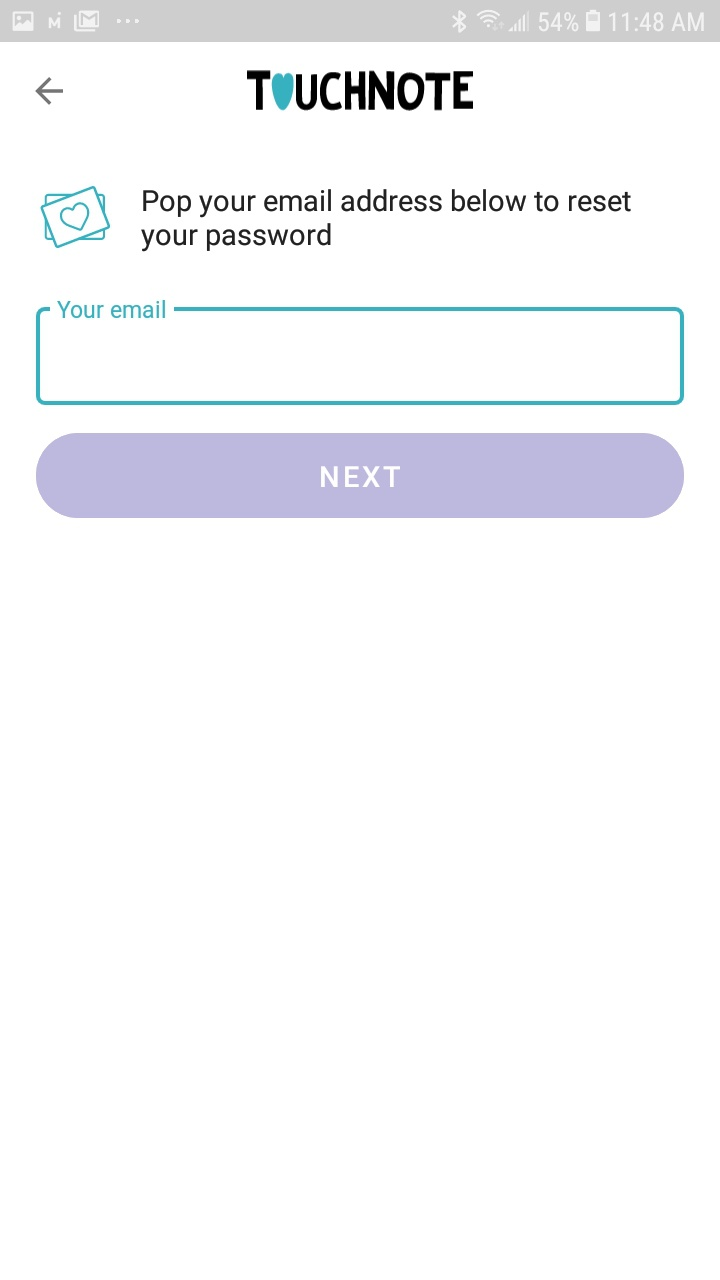EditText: (36, 301, 684, 406)
Icon: (36, 77, 65, 106)
Image: (247, 70, 474, 112), (40, 186, 111, 249)
Text: (141, 189, 632, 253), (58, 301, 167, 320)
TextButton: (36, 433, 684, 519)
UpperTaskBar: (1, 1, 720, 43)
